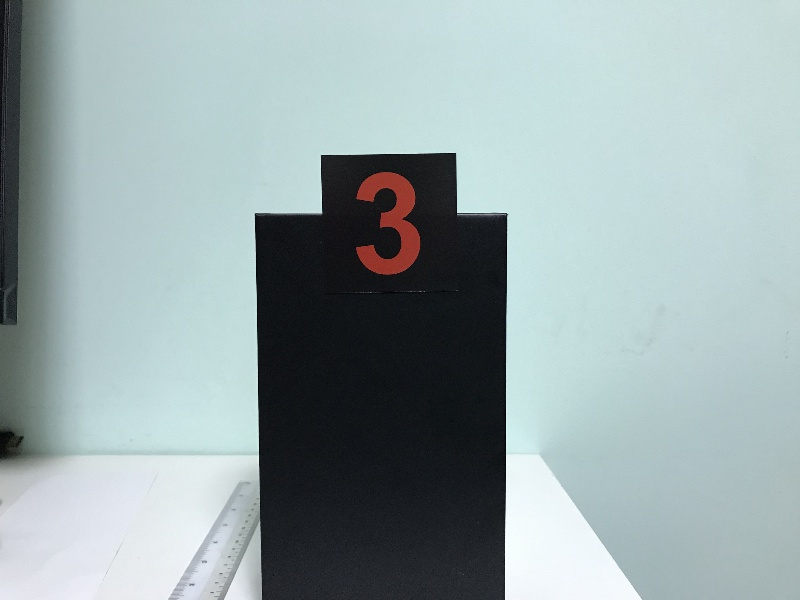Three-8: (328, 157, 456, 290)
